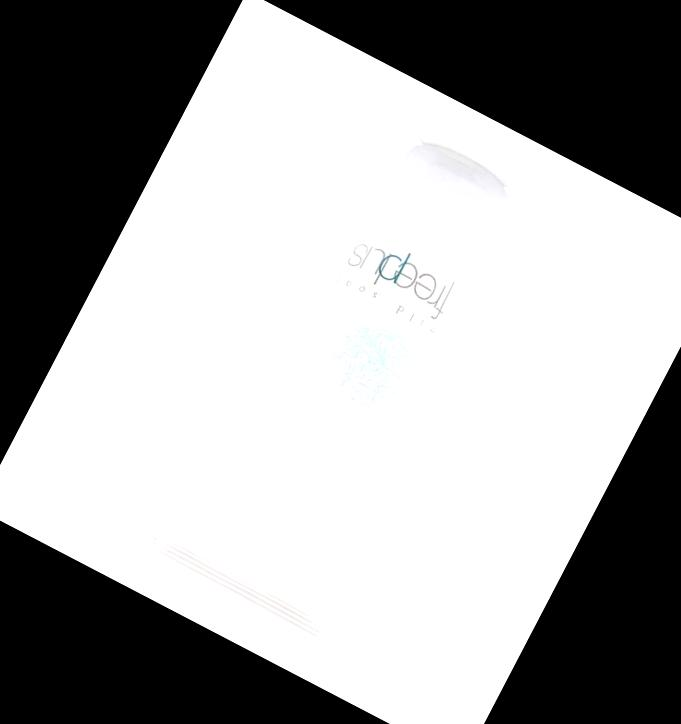cosmetic: (132, 103, 549, 647)
